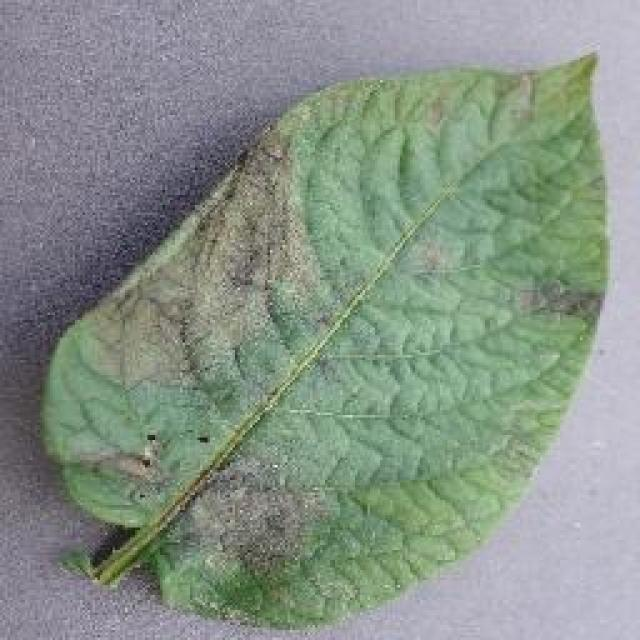late_blight: (35, 48, 615, 632)
